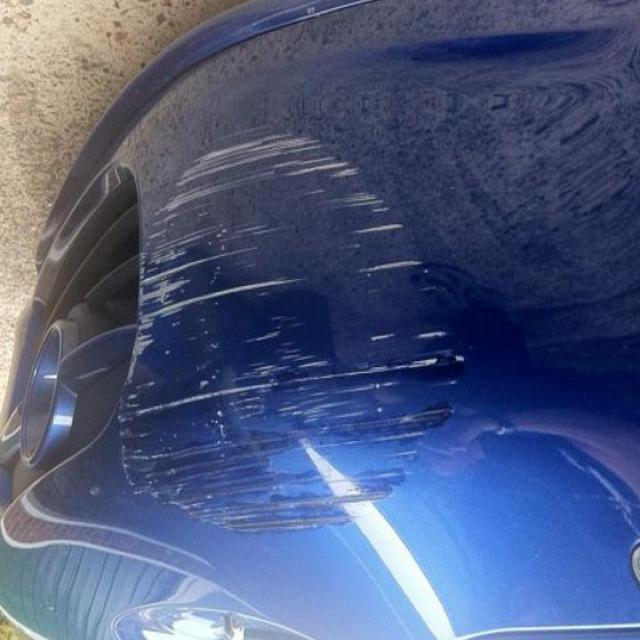scratch: (106, 101, 467, 552)
